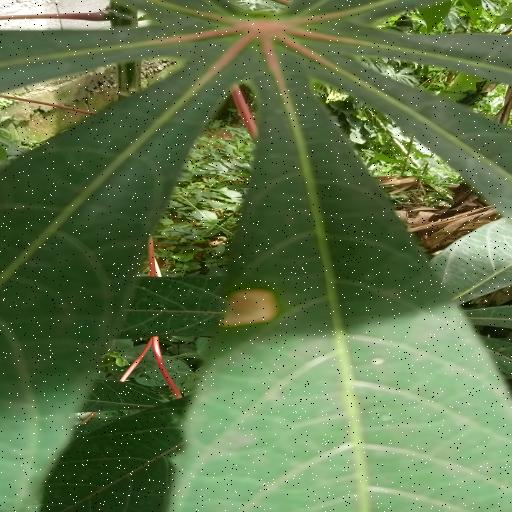Cassava_Brown_Leaf_Spot: (5, 2, 512, 512)
